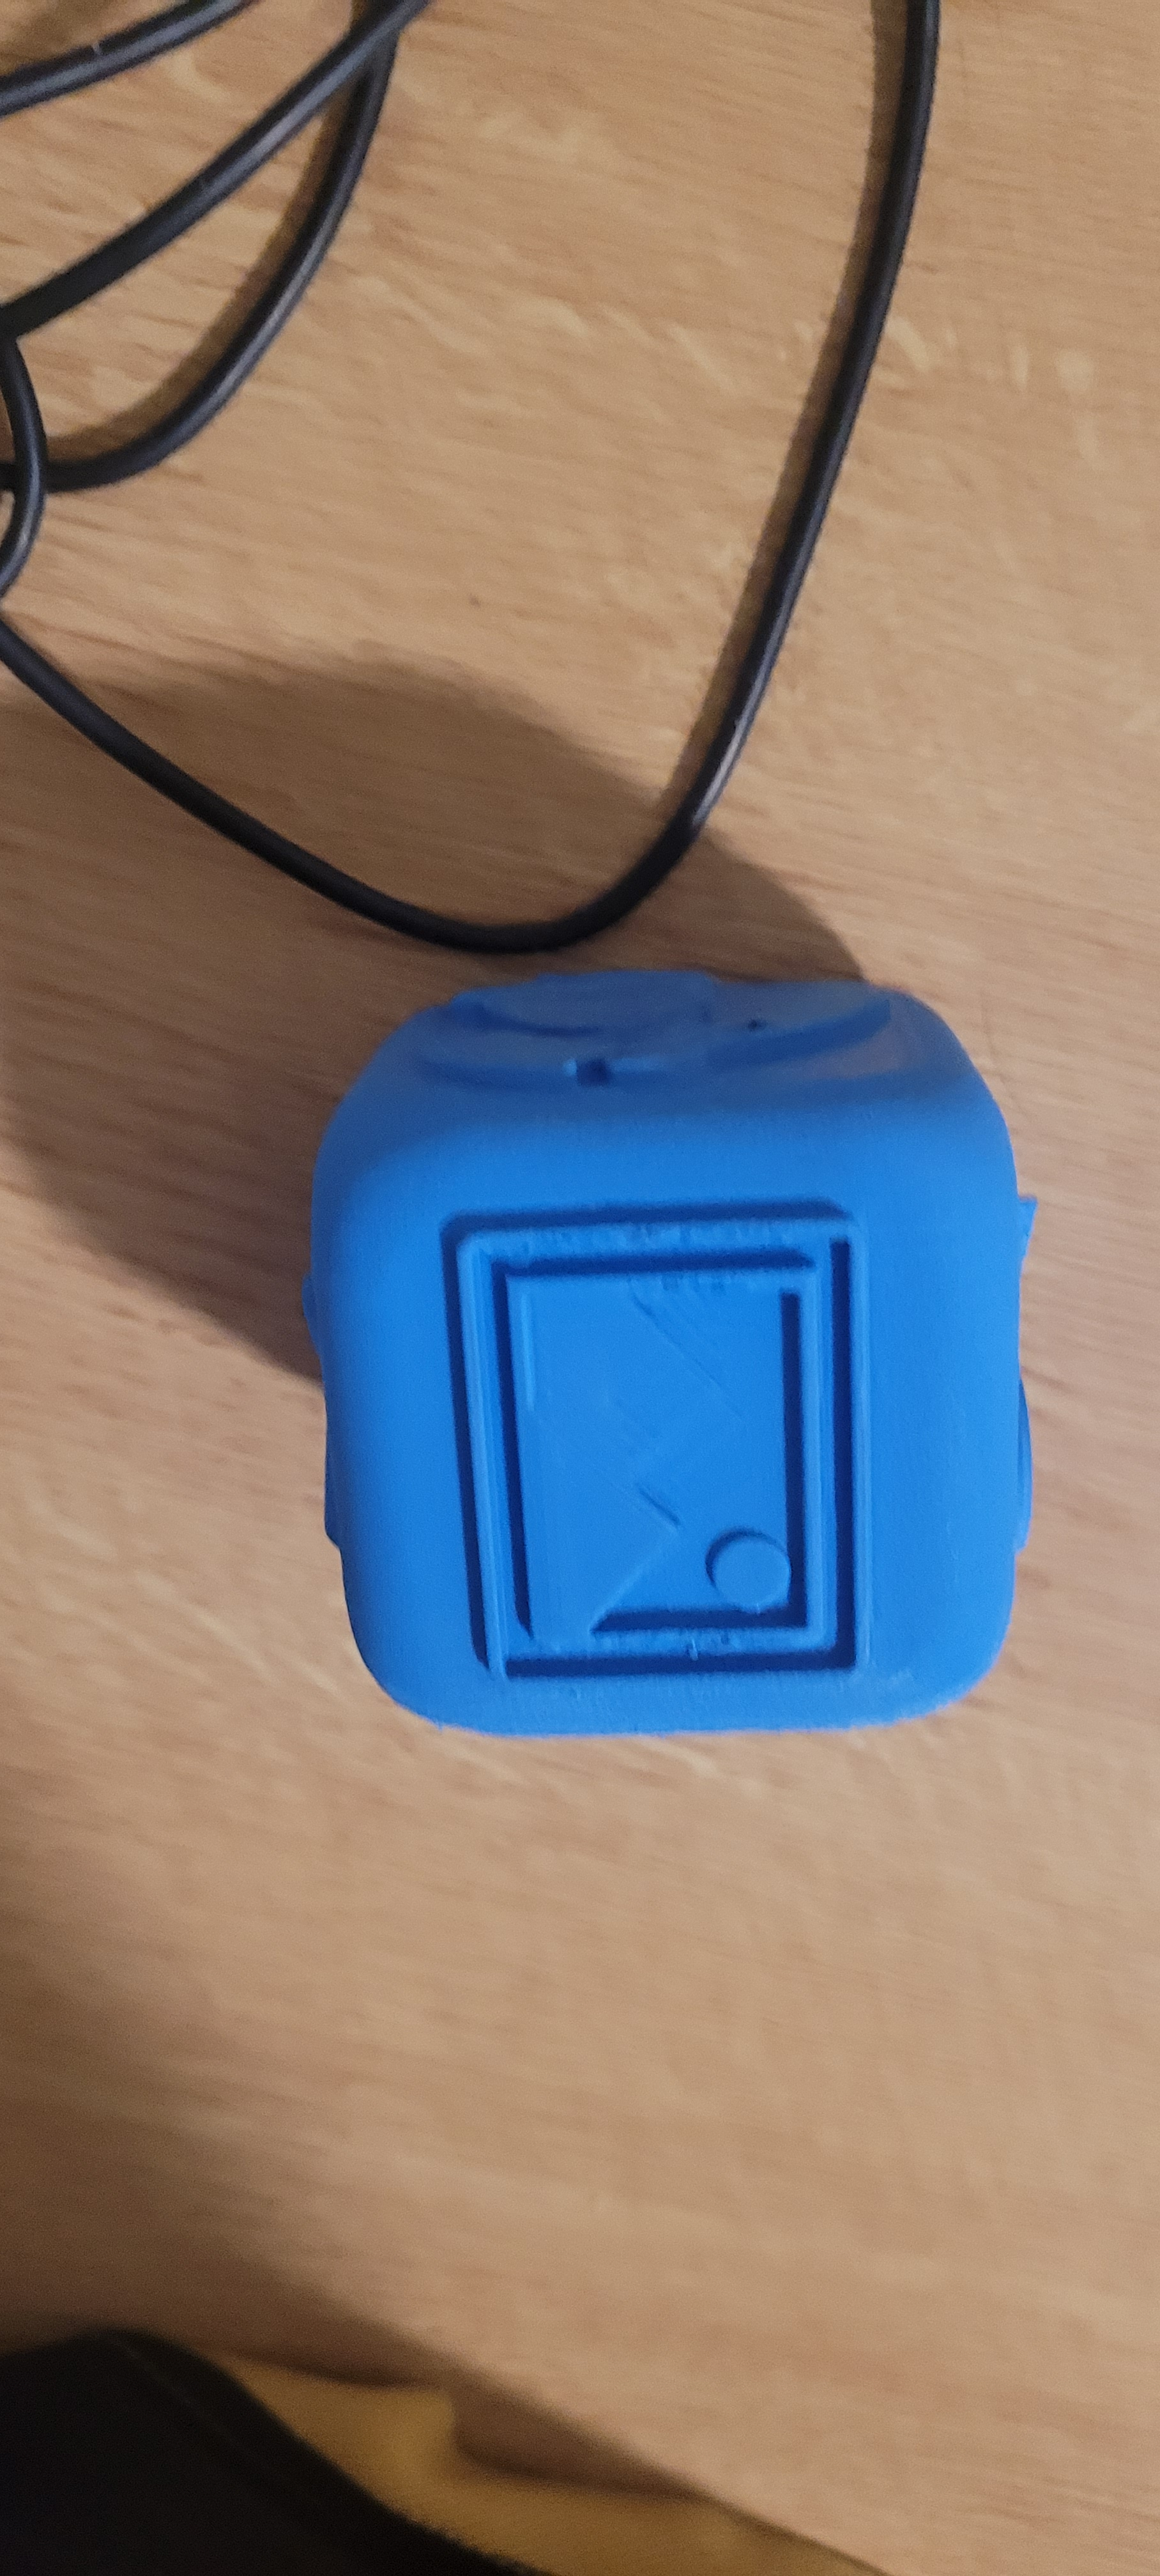Story: (376, 1170, 864, 1686)
